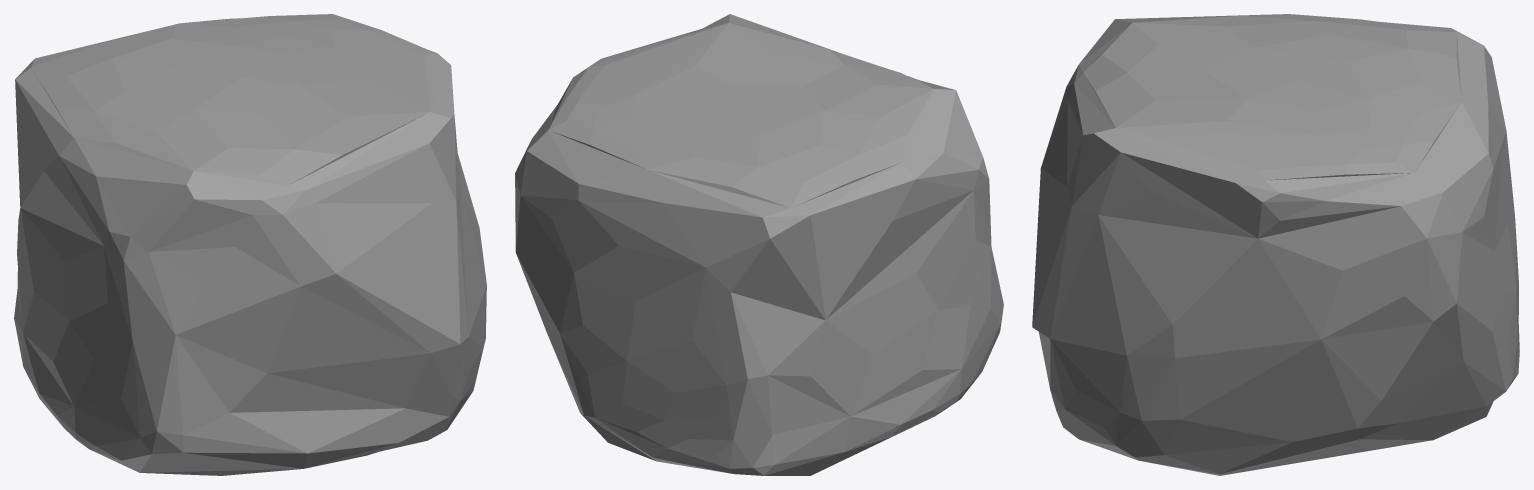
Rendered from Rock_029.fbx.
The picture shows the model from 3 angles, left to right: view 1: azimuth 30°, elevation 25°; view 2: azimuth 150°, elevation 25°; view 3: azimuth 270°, elevation 25°; orthographic projection. The views are drawn at different scales.
Visible parts, largest first — view 1: Rock_029; view 2: Rock_029; view 3: Rock_029.
Boxes of the visible parts, box(x1,y1,x2,y2) form: Rock_029: box(14, 14, 486, 475); Rock_029: box(515, 14, 1003, 475); Rock_029: box(1032, 14, 1519, 475).
Bounding box in the file's own units: 243 × 254 × 195.
1 material, 1 textured.
